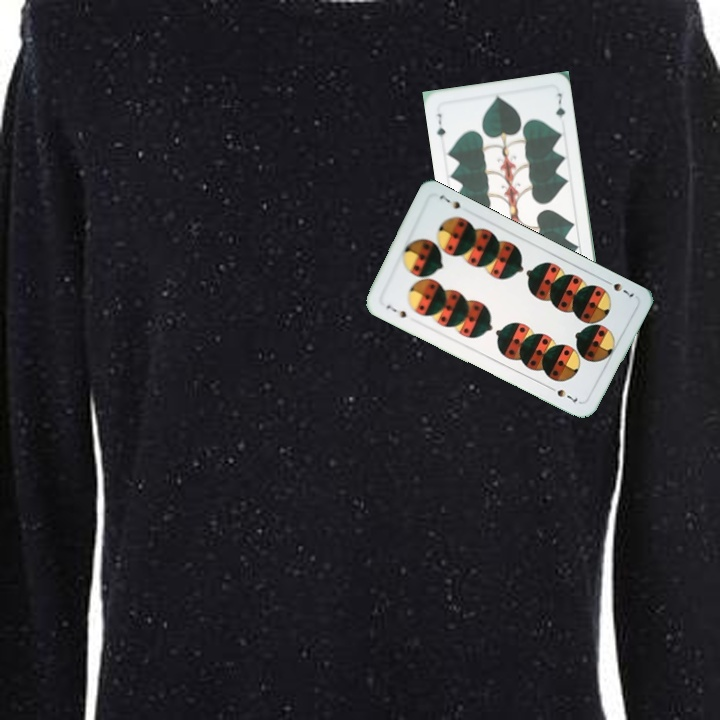G7: (433, 109, 448, 140)
S7: (600, 276, 637, 300), (382, 301, 409, 320)
